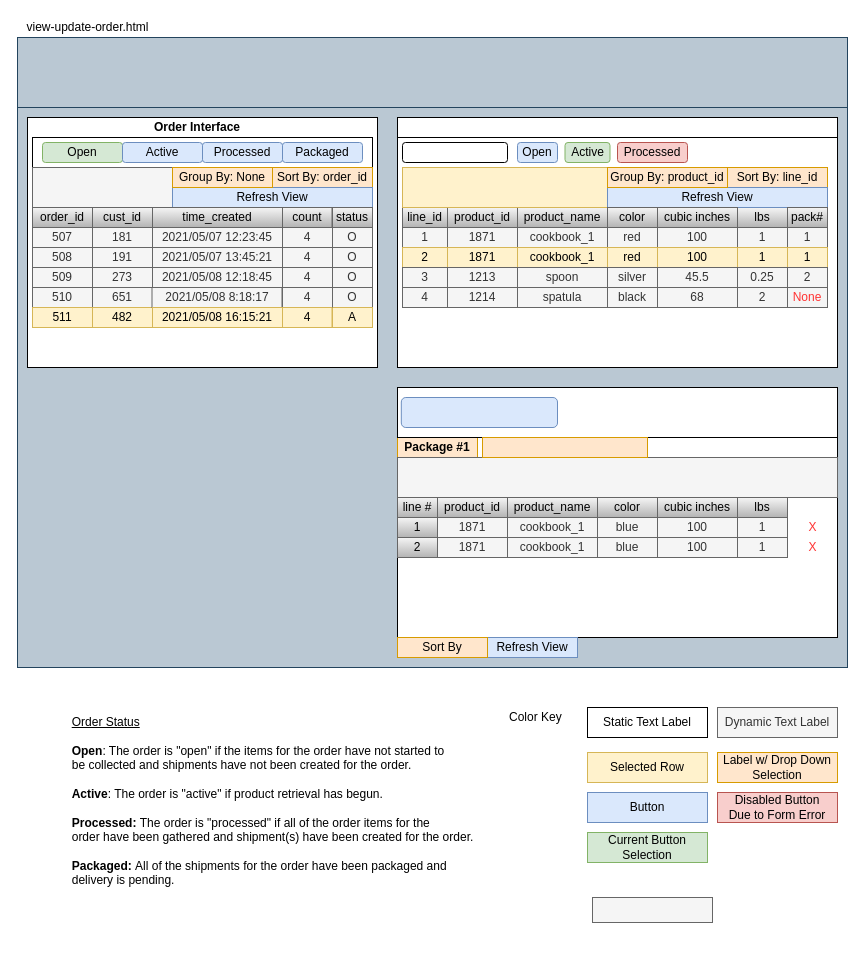
The diagram is 865 pixels wide and 977 high, and some of its shapes have lost their labels. Here are the shapes that lost their labels. From the top down, the centre of each, then its label:
pixel 432 72: h1/nav
pixel 617 127: Order Items
pixel 455 152: Set Order Status:
pixel 102 187: View: Open Orders
pixel 505 187: order_id: 5 cust_id: 482
pixel 479 412: Create New Package
pixel 565 447: Package Type (EV/S/M/L/XL)
pixel 617 477: Package weight: P ackage volume: Max weight: Max volume:
pixel 652 909: Form Error
